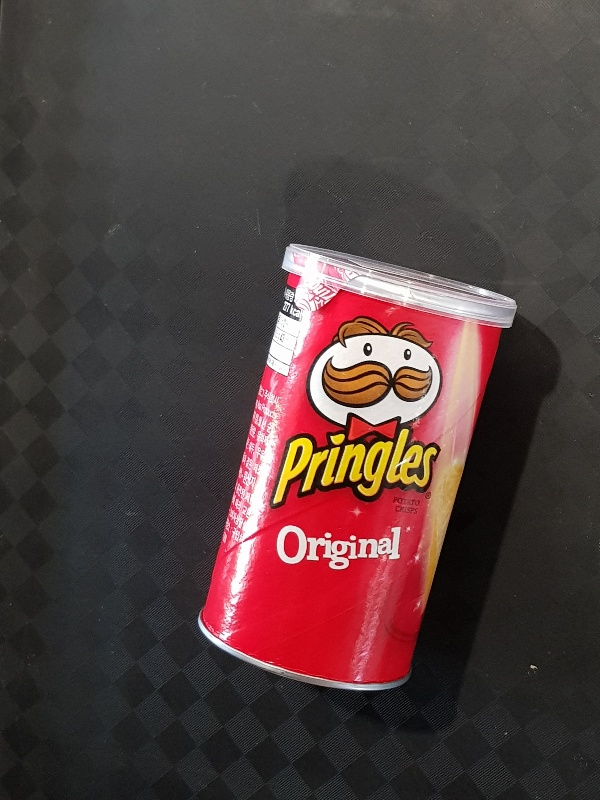Pringles Original: (198, 241, 515, 692)
